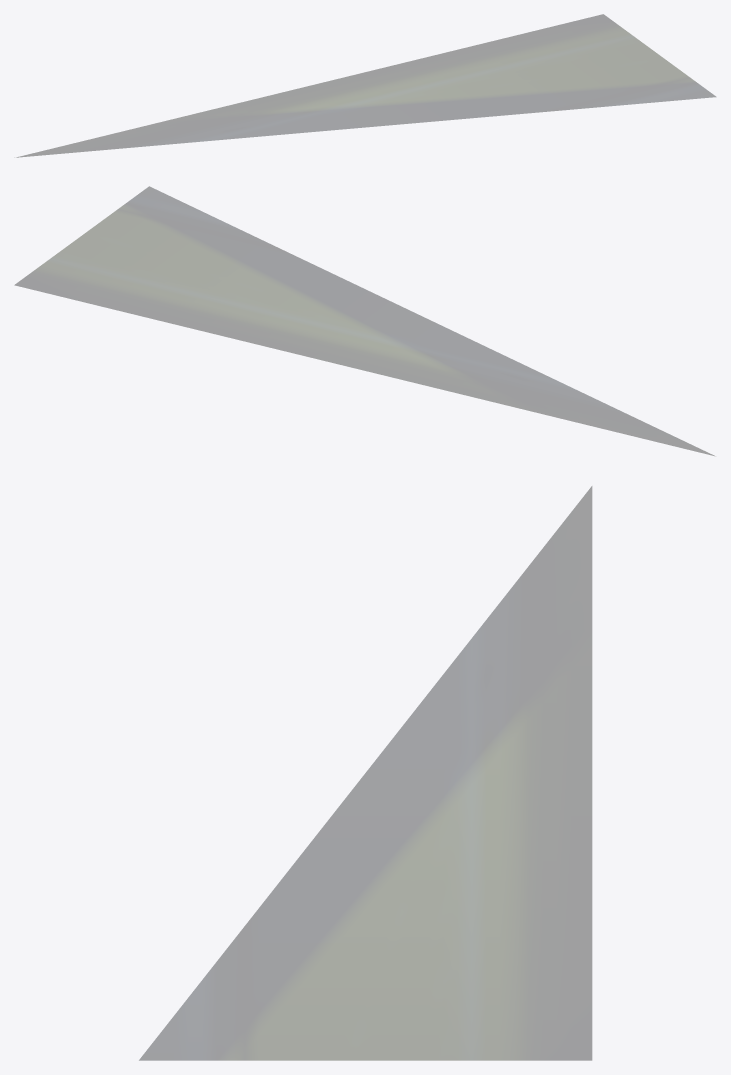
The model's file is PelagicIIExploration_Alpha_86.glb.
The picture shows the model from 3 angles, top to bottom: view 1: azimuth 30°, elevation 25°; view 2: azimuth 150°, elevation 25°; view 3: azimuth 270°, elevation 25°; orthographic projection. The views are drawn at different scales.
Visible parts, largest first — view 1: PelagicIIExploration_Alpha_86; view 2: PelagicIIExploration_Alpha_86; view 3: PelagicIIExploration_Alpha_86.
Part boxes in pixels (box(x1,y1,x2,y2)): PelagicIIExploration_Alpha_86: box(17, 14, 715, 157); PelagicIIExploration_Alpha_86: box(15, 186, 714, 455); PelagicIIExploration_Alpha_86: box(139, 486, 591, 1060).
Size of the model in its own units: 6.75 by 0 by 2.25.
1 material, 1 textured.
